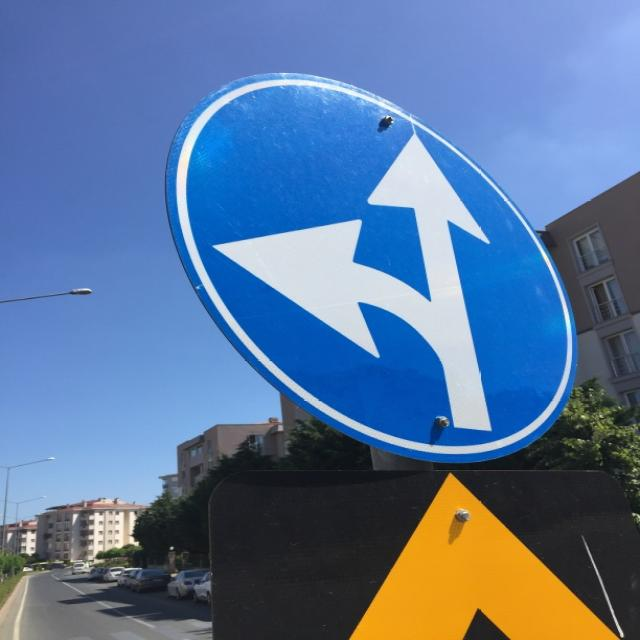ilerisol: (166, 72, 581, 464)
